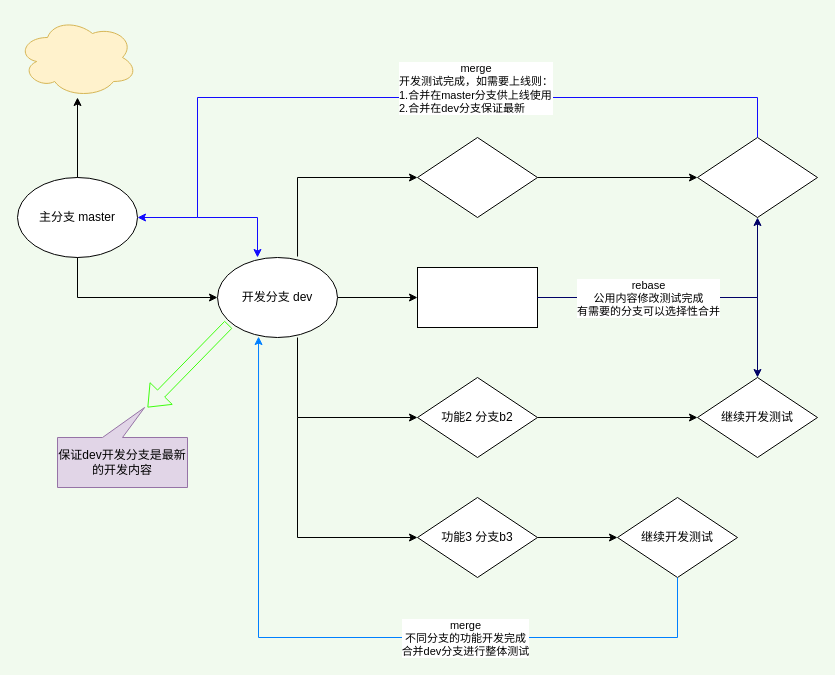
Some shapes in this 835 by 675 pixel diagram are drawn without their labels. Each missing label, with the centre of its shape:
上线: the point at 77,57
公用分支 common: the point at 477,297
功能1 分支b1: the point at 477,177
开发测试完成: the point at 757,177
